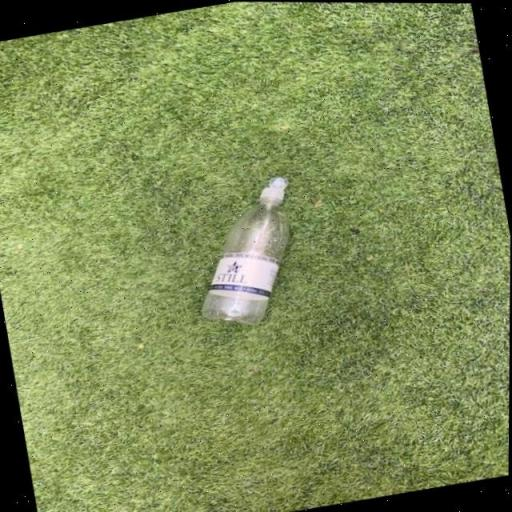plastic: (178, 174, 312, 332)
